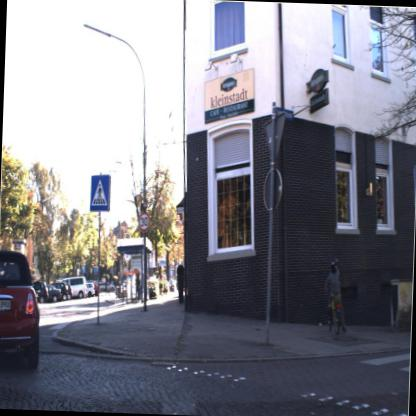mandatory: (86, 170, 112, 212)
prohibitory: (138, 211, 152, 232)
